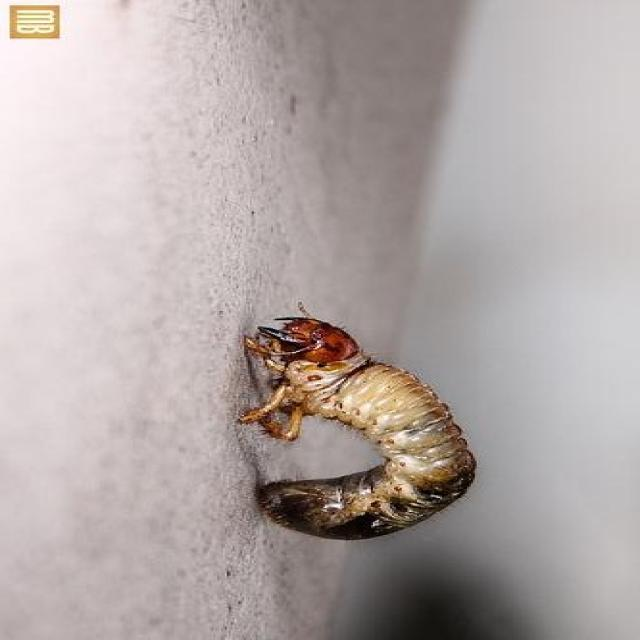grub: (240, 316, 482, 546)
